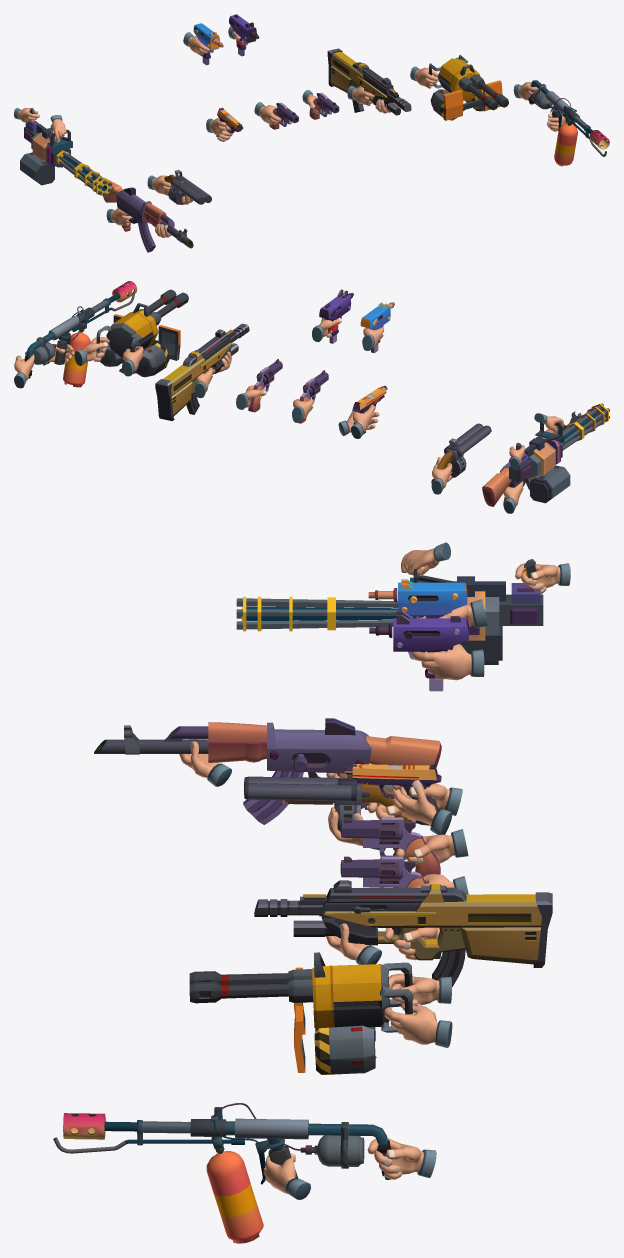
File: new GUNS.fbx
3 views of the same model, one above another, from view 1: azimuth 30°, elevation 25°; view 2: azimuth 150°, elevation 25°; view 3: azimuth 270°, elevation 25° (orthographic). The views are drawn at different scales.
Visible parts, largest first — view 1: polySurface10, pasted__F2000, _pasted__flamethrower001group, pasted__polySurface8, ak, pasted__polySurface1, guns:guns:guns:guns:_df, pasted__Uzi, pasted__pasted__Uzi2, pasted__Revolver, h4, pasted__Revolver2 (+6 smaller); view 2: polySurface10, pasted__F2000, _pasted__flamethrower001group, pasted__polySurface8, guns:guns:guns:guns:_df, pasted__polySurface1, ak, pasted__Uzi, pasted__pasted__Uzi2, pasted__Revolver, h5, h (+12 smaller); view 3: pasted__F2000, _pasted__flamethrower001group, ak, polySurface10, pasted__polySurface1, pasted__polySurface8, guns:guns:guns:guns:_df, pasted__Uzi, pasted__Revolver2, pasted__pasted__Uzi2, polySurface7, pasted__Revolver (+14 smaller).
Boxes of the visible parts, x1,y1,x2,y2 form: polySurface10: [428, 55, 502, 120]; pasted__F2000: [327, 48, 411, 115]; _pasted__flamethrower001group: [528, 80, 609, 166]; pasted__polySurface8: [20, 108, 72, 185]; ak: [103, 180, 193, 252]; pasted__polySurface1: [58, 152, 112, 196]; guns:guns:guns:guns:_df: [164, 169, 211, 204]; pasted__Uzi: [229, 14, 259, 56]; pasted__pasted__Uzi2: [193, 23, 223, 65]; pasted__Revolver: [309, 92, 339, 119]; h4: [410, 66, 439, 88]; pasted__Revolver2: [269, 102, 298, 129]; polySurface10: [96, 303, 180, 377]; pasted__F2000: [155, 323, 249, 421]; _pasted__flamethrower001group: [24, 281, 137, 387]; pasted__polySurface8: [509, 422, 570, 503]; guns:guns:guns:guns:_df: [434, 423, 491, 479]; pasted__polySurface1: [560, 403, 609, 450]; ak: [482, 411, 581, 507]; pasted__Uzi: [319, 289, 353, 343]; pasted__pasted__Uzi2: [360, 302, 394, 353]; pasted__Revolver: [248, 359, 282, 412]; h5: [74, 337, 109, 365]; h: [14, 351, 34, 388]; pasted__F2000: [254, 880, 552, 987]; _pasted__flamethrower001group: [53, 1103, 391, 1243]; ak: [94, 718, 441, 824]; polySurface10: [288, 952, 413, 1074]; pasted__polySurface1: [236, 596, 397, 631]; pasted__polySurface8: [410, 559, 543, 664]; guns:guns:guns:guns:_df: [244, 774, 411, 831]; pasted__Uzi: [369, 610, 468, 691]; pasted__Revolver2: [340, 817, 440, 876]; pasted__pasted__Uzi2: [368, 579, 467, 652]; polySurface7: [344, 764, 441, 824]; pasted__Revolver: [340, 856, 425, 887].
Bounding box in the file's own units: 485 × 167 × 218.
Materials: 8 (8 with a texture image).
